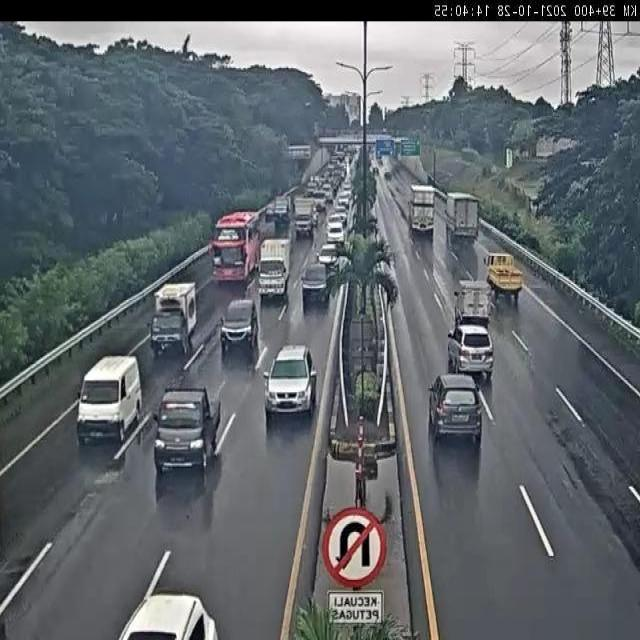Bus: (211, 211, 264, 287)
Car: (264, 344, 318, 420), (428, 372, 483, 444), (446, 324, 493, 382), (219, 297, 259, 363), (300, 262, 332, 310), (317, 243, 340, 272), (326, 218, 345, 245), (336, 190, 351, 216), (320, 187, 332, 205)
Truck: (153, 385, 222, 473), (149, 282, 198, 358), (257, 236, 292, 301), (453, 280, 492, 328), (487, 252, 524, 301), (446, 192, 479, 242), (409, 184, 436, 237), (292, 195, 316, 238)
Van: (77, 356, 143, 444)
